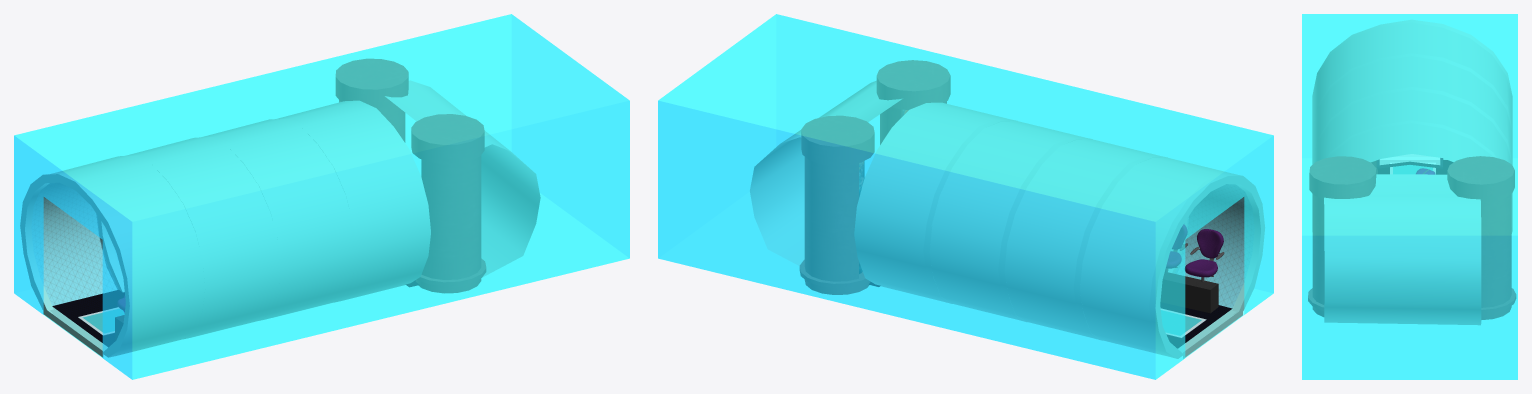
File: underwater_lab_environment.glb
3 views of the same model, side by side, from view 1: azimuth 30°, elevation 25°; view 2: azimuth 150°, elevation 25°; view 3: azimuth 270°, elevation 25° (orthographic). The views are drawn at different scales.
Parts seen in each view (by area): view 1: cargo_shell, group_modules (×5), storage_L1, module_back, storage_L, floor_access; view 2: cargo_shell, group_modules (×5), storage_L, module_back, storage_L1, group15, polySurface34, floor_access; view 3: cargo_shell, group_modules (×5), module_back, storage_L, storage_L1, module_interiorw8, floor_access.
Boxes of the visible parts, <box> form: cargo_shell: <box>14,14,629,379</box>; group_modules (×5): <box>20,101,430,357</box>; storage_L1: <box>411,114,485,293</box>; module_back: <box>385,80,540,276</box>; storage_L: <box>336,59,408,141</box>; floor_access: <box>78,307,124,335</box>; cargo_shell: <box>658,14,1273,379</box>; group_modules (×5): <box>854,103,1264,358</box>; storage_L: <box>800,116,874,294</box>; module_back: <box>750,81,901,265</box>; storage_L1: <box>877,60,950,144</box>; group15: <box>1160,272,1218,313</box>; polySurface34: <box>1185,229,1224,282</box>; floor_access: <box>1161,308,1206,337</box>; cargo_shell: <box>1302,14,1517,379</box>; group_modules (×5): <box>1312,20,1512,231</box>; module_back: <box>1324,174,1480,324</box>; storage_L: <box>1447,156,1515,319</box>; storage_L1: <box>1308,156,1375,316</box>; module_interiorw8: <box>1377,154,1442,168</box>; floor_access: <box>1390,165,1435,173</box>.
Size of the model in its own units: 34.22 by 10.41 by 14.08.
Materials: 16 (16 with a texture image).
